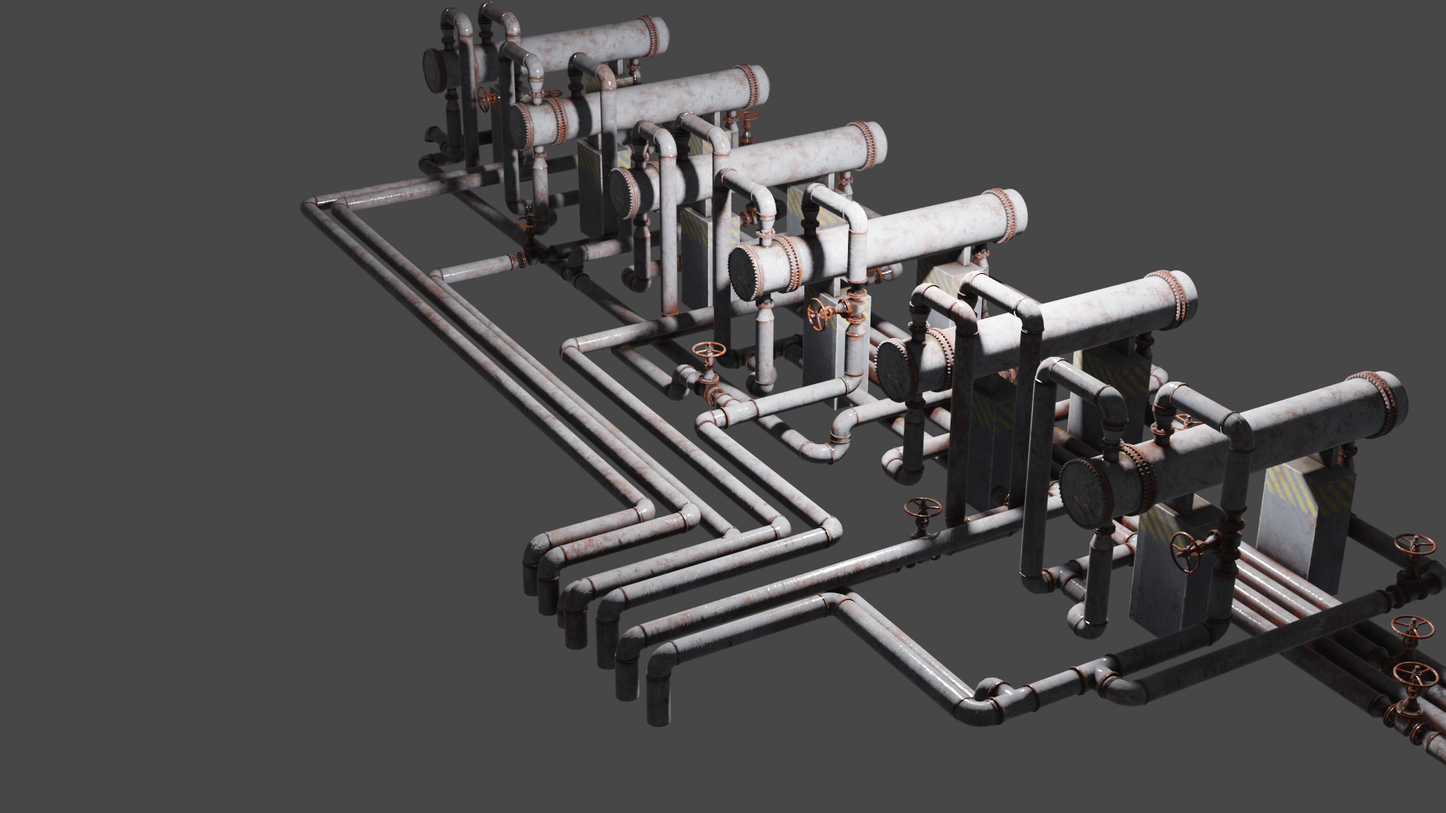HE_1: (416, 14, 669, 95)
HE_2: (503, 64, 773, 152)
HE_3: (606, 116, 889, 221)
HE_4: (723, 182, 1030, 305)
HE_5: (874, 265, 1197, 401)
HE_6: (1055, 365, 1412, 527)
